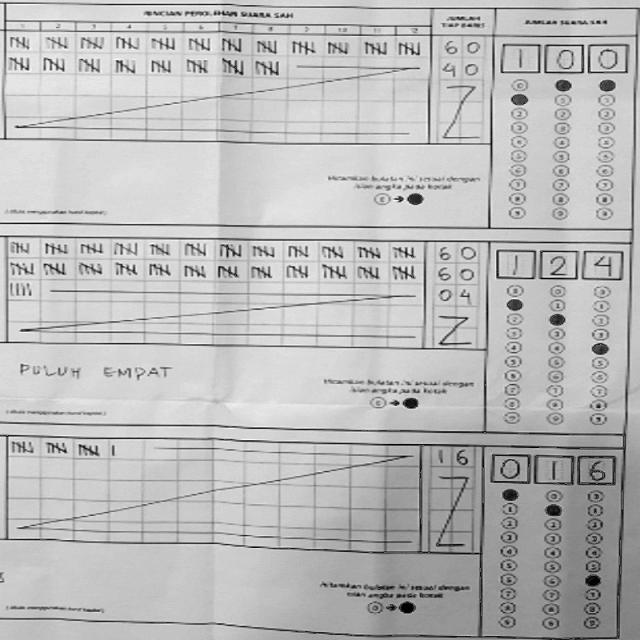Suara: (484, 447, 612, 483), (490, 246, 624, 280), (498, 42, 626, 72)
